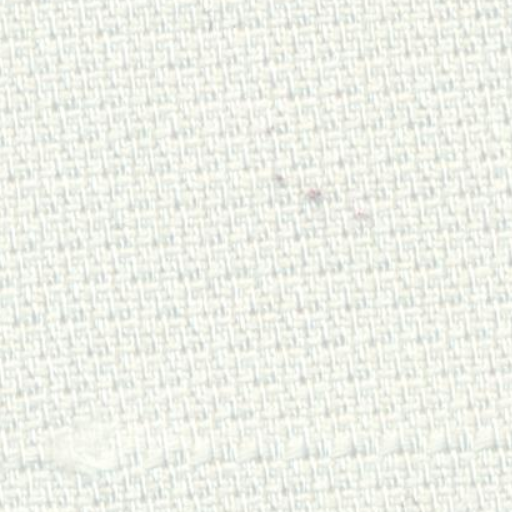DaiSha: (24, 414, 496, 476)
